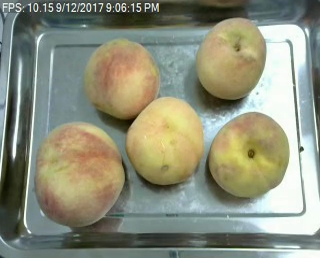Peach: (32, 120, 124, 227), (124, 96, 203, 186), (205, 113, 288, 198), (193, 18, 267, 100), (84, 38, 158, 118)
